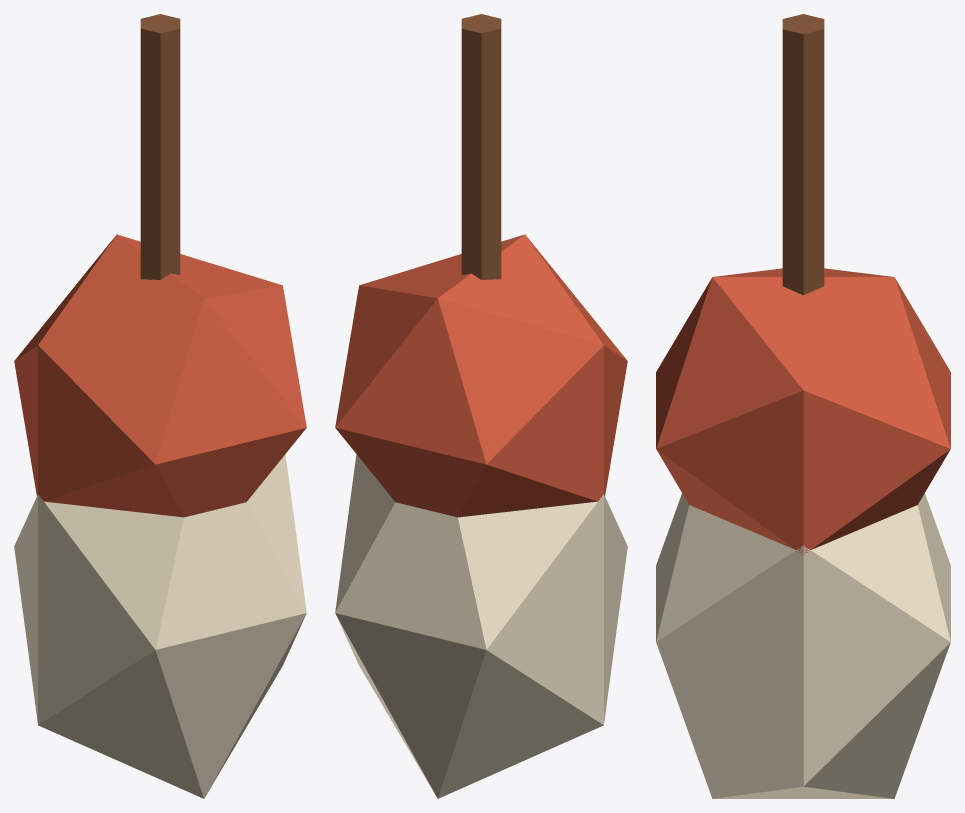
The model's file is fishing_bobber.glb.
3 renders of one model, left to right at view 1: azimuth 30°, elevation 25°; view 2: azimuth 150°, elevation 25°; view 3: azimuth 270°, elevation 25°, orthographic. The views are drawn at different scales.
Visible parts, largest first — view 1: fishing_bobber_Mesh; view 2: fishing_bobber_Mesh; view 3: fishing_bobber_Mesh.
Part boxes in pixels (left/top/right/bottom): fishing_bobber_Mesh: left=14, top=14, right=306, bottom=798; fishing_bobber_Mesh: left=335, top=14, right=627, bottom=798; fishing_bobber_Mesh: left=656, top=14, right=950, bottom=798.
Bounding box in the file's own units: 0.1106 × 0.3208 × 0.1106.
